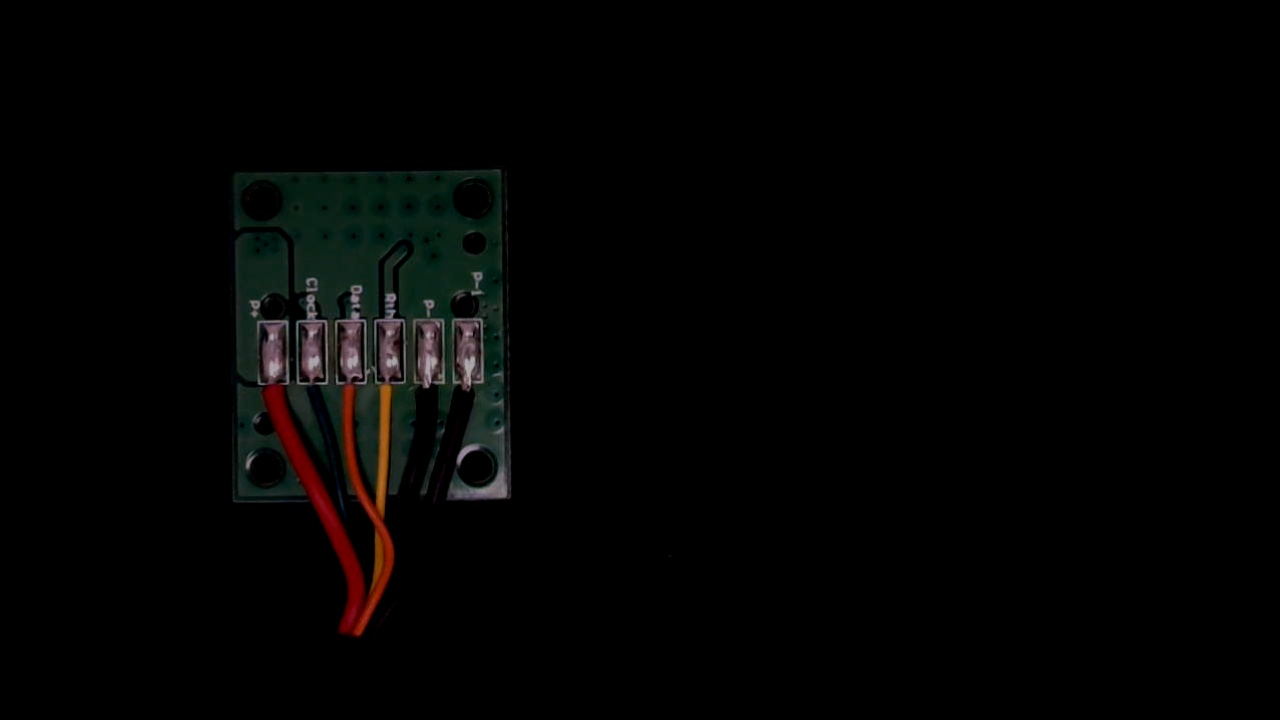Black: (413, 365, 443, 431)
Black1: (454, 366, 487, 433)
Green: (296, 361, 327, 424)
Orange: (335, 363, 365, 425)
Red: (255, 362, 290, 432)
Yellow: (376, 364, 403, 433)
